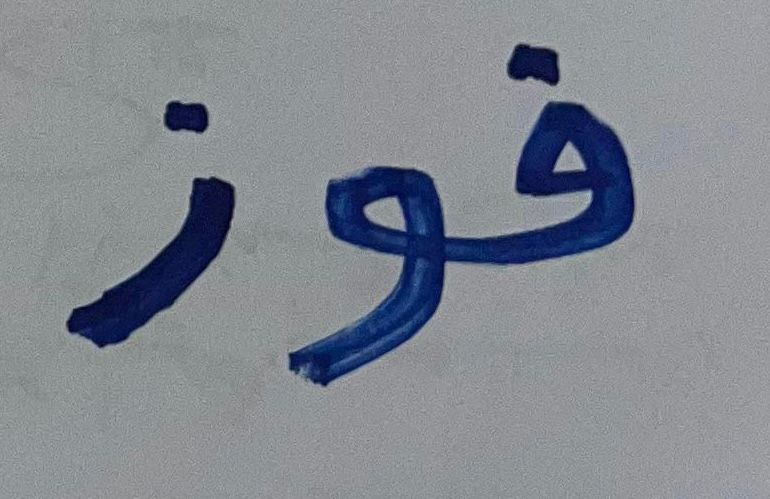qaf: (486, 33, 649, 293)
waw: (274, 139, 468, 395)
zain: (51, 63, 252, 371)
